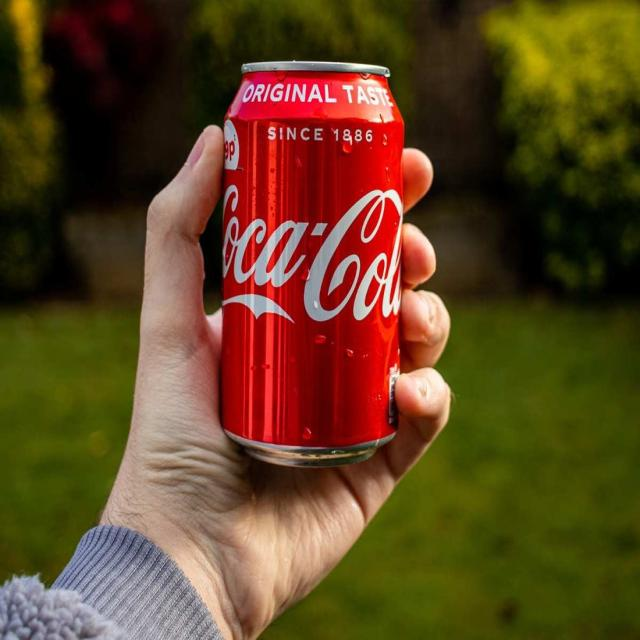cocacola: (220, 57, 411, 474)
